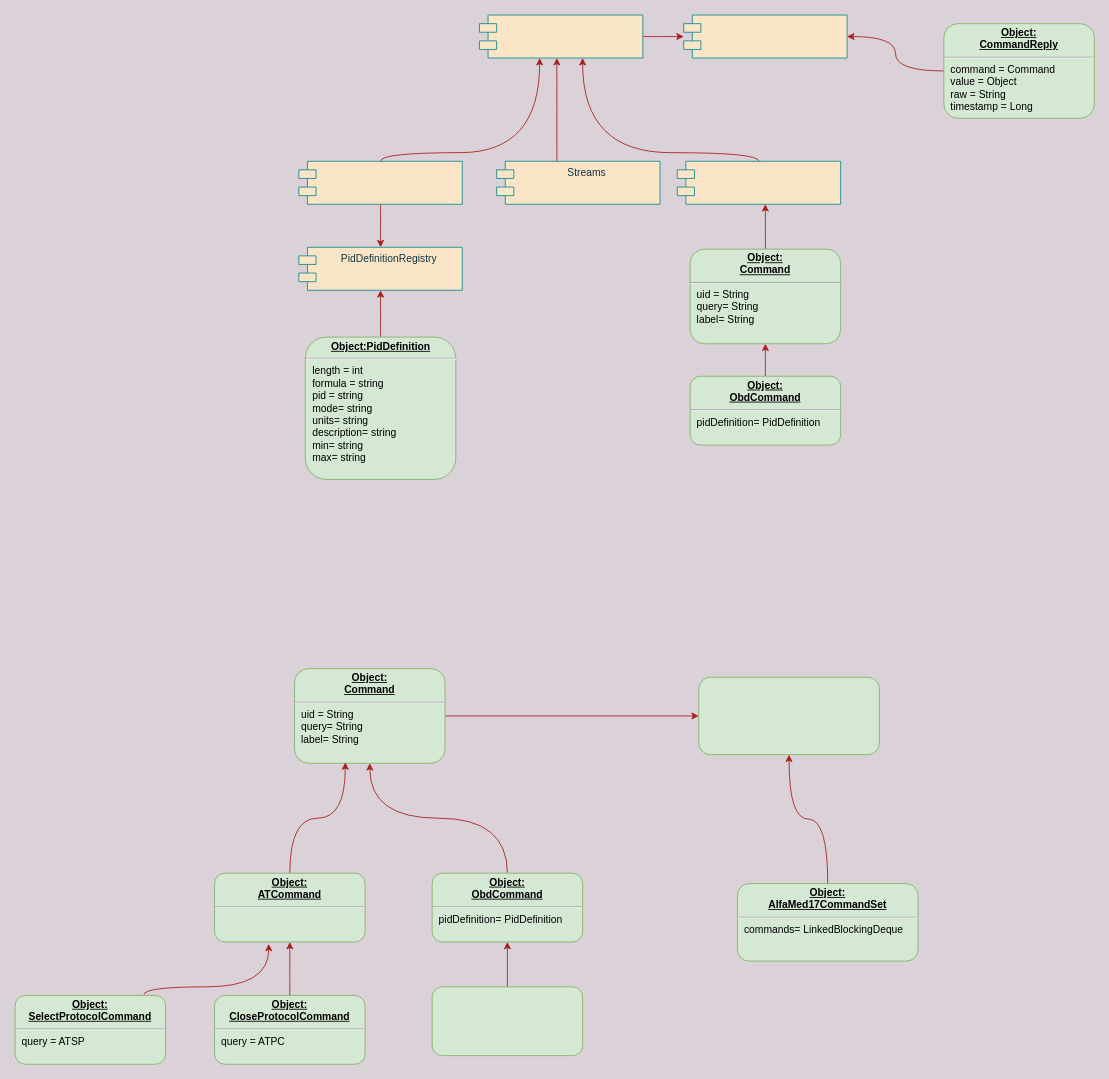
The diagram is 1109 pixels wide and 1079 high, and some of its shapes have lost their labels. The shapes that lost their labels are listed below. From the top down, each one's box as (x1, y1, x2, y2) in pixels, then its label:
(479, 14, 643, 58): CommandExecutor
(683, 14, 847, 58): DataCollector
(298, 160, 462, 204): CodecRegistry
(676, 160, 841, 204): CommandsBuffer
(698, 676, 879, 755): Object: CommandSet commands= LinkedBlockingDeque
(431, 986, 583, 1056): Object: SupportedPidsCommand pidDefinition = 0100,0120,0140
